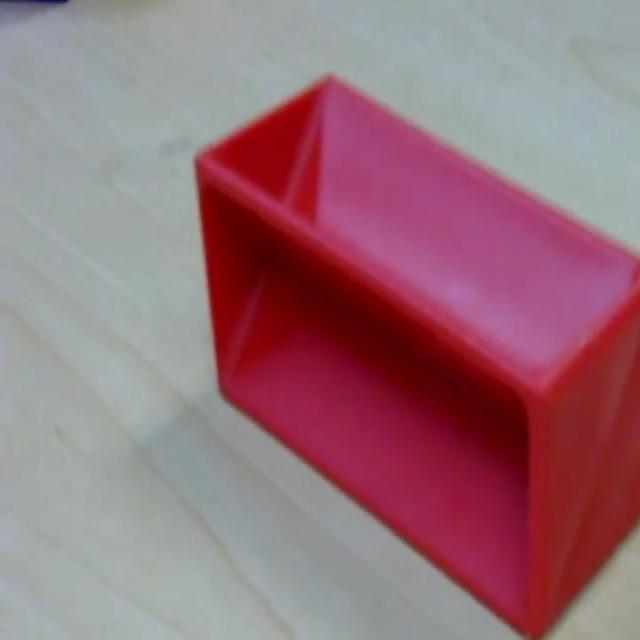red_block: (192, 69, 638, 635)
